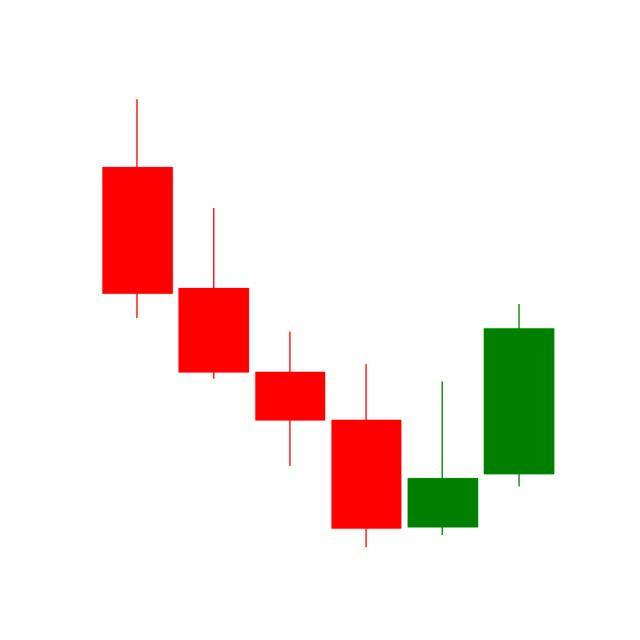Three Inside Up-Down: (326, 301, 555, 548)
